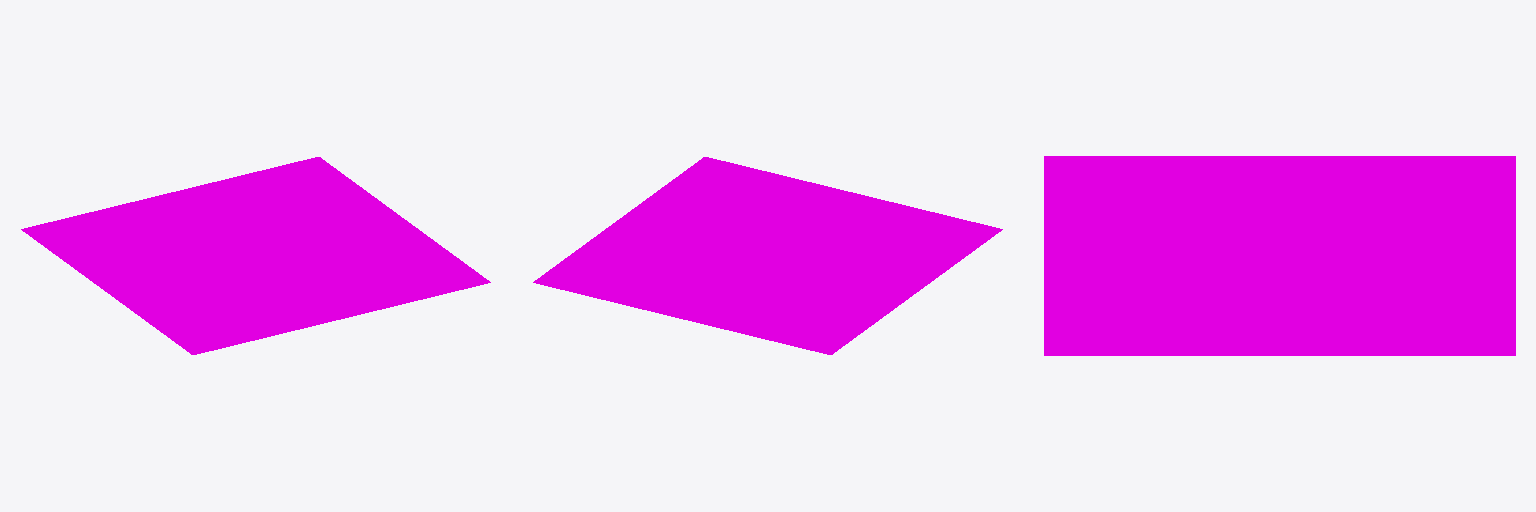
The robot description file, URDF, robot "goal":
<?xml version="1.0" ?>
<robot name="goal">
  <link name="planeLink">
  <contact>
      <lateral_friction value="1"/>
  </contact>
  <inertial>
      <origin rpy="0 0 0" xyz="0 0 0"/>
       <mass value=".0"/>
       <inertia ixx="0" ixy="0" ixz="0" iyy="0" iyz="0" izz="0"/>
    </inertial>
    <visual>
      <origin rpy="0 0 0" xyz="2 5 0.01"/>
      <geometry>
				<mesh filename="goal.obj" scale="1 1 1"/>
      </geometry>
       <material name="red">
        <color rgba="1 0 1 1"/>
      </material>
    </visual>
    <collision>
      <origin rpy="0 0 0" xyz="0 0 0.01"/>
      <geometry>
	 	<box size="0 0 0"/>
      </geometry>
    </collision>
  </link>
</robot>

--- Facts derived from the render (not from the file) ---
The picture shows the robot from 3 angles, left to right: view 1: azimuth 30°, elevation 25°; view 2: azimuth 150°, elevation 25°; view 3: azimuth 270°, elevation 25°; orthographic projection.
Robot: goal — 1 links, 0 joints (none); root link planeLink; default pose: every joint at zero.
Links seen in each view (by area): view 1: planeLink; view 2: planeLink; view 3: planeLink.
Link boxes in pixels (bbox=[...]): planeLink: bbox=[21, 157, 490, 354]; planeLink: bbox=[533, 157, 1002, 354]; planeLink: bbox=[1044, 156, 1515, 355].
Size in the robot's own frame: 1 by 1 by 0 metres.
1 mesh visuals loaded from 1 distinct referenced files (1 OBJ).
